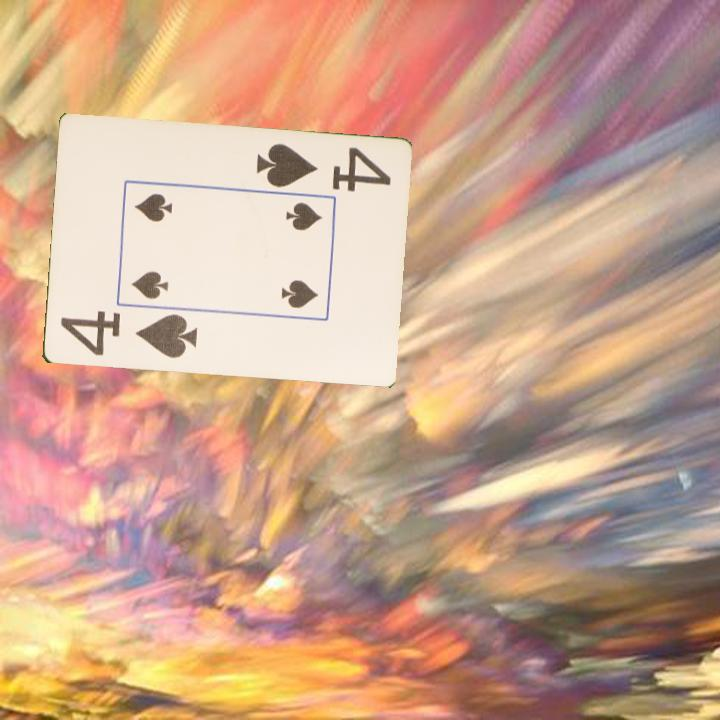4s: (56, 307, 200, 362), (252, 140, 393, 195)
